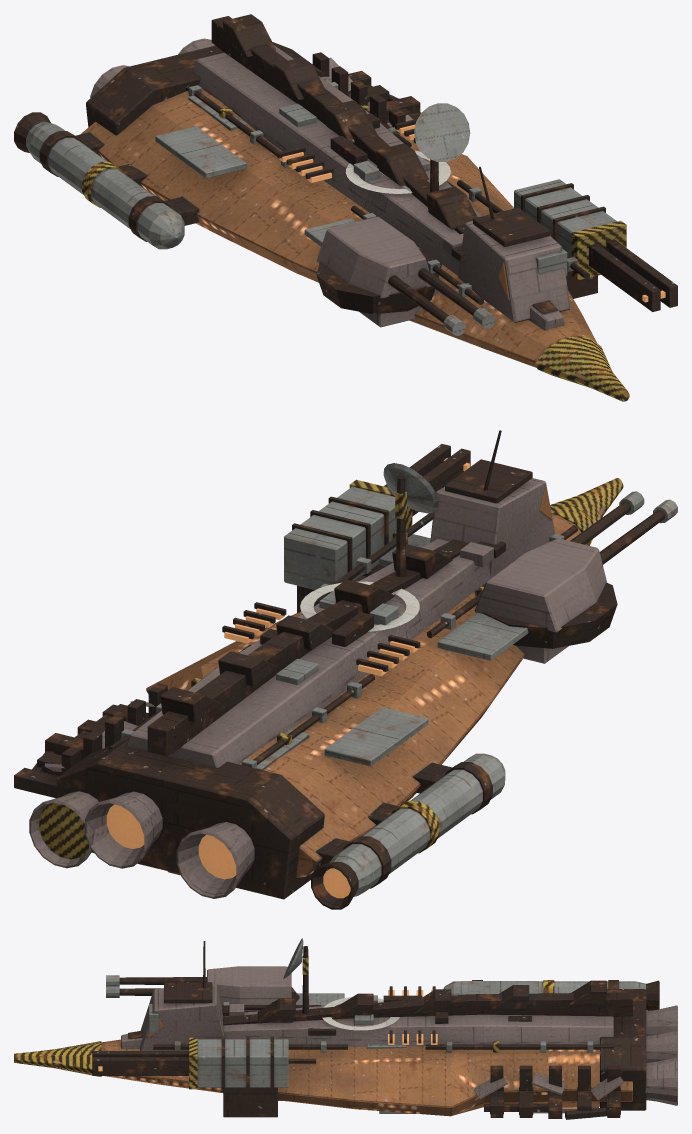
File: dustborn_frigate.glb
3 views of the same model, one above another, from view 1: azimuth 30°, elevation 25°; view 2: azimuth 150°, elevation 25°; view 3: azimuth 270°, elevation 25° (orthographic). The views are drawn at different scales.
Parts seen in each view (by area): view 1: HULL, SYS_DRIVE, SYS_WPN2, SYS_BRIDGE, SYS_WPN1, SYS_SENSORS, SYS_BUS_F, SYS_REACTOR, SYS_BUS_A; view 2: HULL, SYS_DRIVE, SYS_WPN2, SYS_WPN1, SYS_BRIDGE, SYS_REACTOR, SYS_SENSORS, SYS_BUS_F, SYS_BUS_A; view 3: HULL, SYS_WPN1, SYS_DRIVE, SYS_BRIDGE, SYS_WPN2, SYS_BUS_A, SYS_BUS_F, SYS_SENSORS, SYS_REACTOR.
Boxes of the visible parts, <box> form: HULL: <box>81,14,629,401</box>; SYS_DRIVE: <box>14,38,321,249</box>; SYS_WPN2: <box>316,216,495,335</box>; SYS_BRIDGE: <box>458,166,570,322</box>; SYS_WPN1: <box>492,179,677,311</box>; SYS_SENSORS: <box>414,103,470,192</box>; SYS_BUS_F: <box>351,180,589,304</box>; SYS_REACTOR: <box>277,118,417,182</box>; SYS_BUS_A: <box>186,52,411,169</box>; HULL: <box>14,478,623,877</box>; SYS_DRIVE: <box>29,739,505,909</box>; SYS_WPN2: <box>474,491,677,663</box>; SYS_WPN1: <box>284,444,470,612</box>; SYS_BRIDGE: <box>430,430,555,577</box>; SYS_REACTOR: <box>222,602,420,676</box>; SYS_SENSORS: <box>383,463,438,576</box>; SYS_BUS_F: <box>313,512,577,638</box>; SYS_BUS_A: <box>108,644,374,768</box>; HULL: <box>14,980,632,1119</box>; SYS_WPN1: <box>92,1036,315,1117</box>; SYS_DRIVE: <box>443,980,677,1110</box>; SYS_BRIDGE: <box>140,941,224,1050</box>; SYS_WPN2: <box>106,966,299,1013</box>; SYS_BUS_A: <box>425,1041,613,1052</box>; SYS_BUS_F: <box>153,1002,347,1052</box>; SYS_SENSORS: <box>283,938,308,1013</box>; SYS_REACTOR: <box>379,986,437,1113</box>.
Bounding box in the file's own units: 13.62 × 8.58 × 30.64.
Materials: 1 (1 with a texture image).
